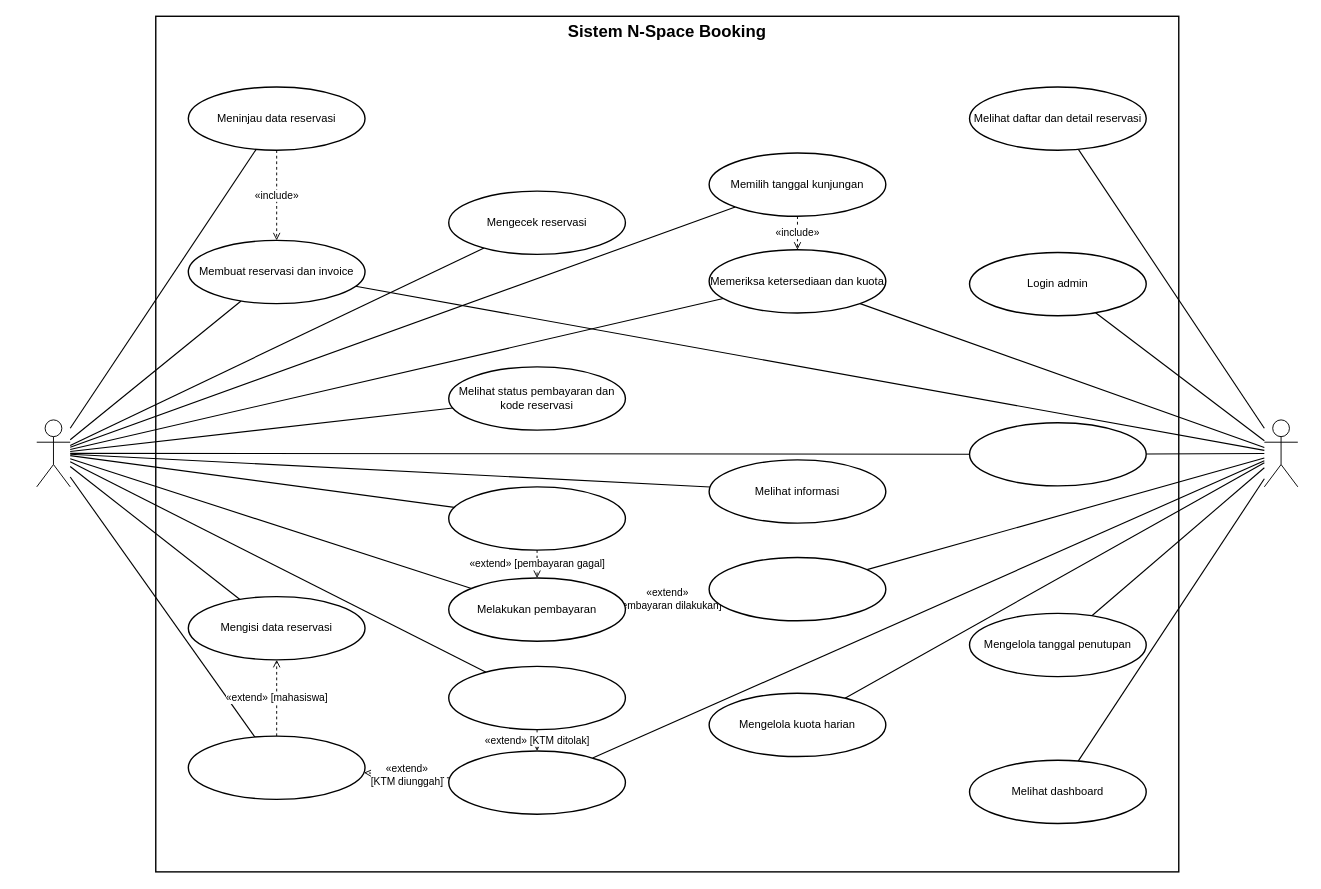
Some shapes in this 1321 by 889 pixel diagram are drawn without their labels. The centre of each missing label's shape, as x and y in pixels:
Admin: the point at 1280,453
Memantau status pembayaran: the point at 797,588
Memverifikasi KTM: the point at 537,782
Mengirim konfirmasi via WhatsApp: the point at 1057,454
Mengulang pembayaran: the point at 537,518
Mengunggah KTM (mahasiswa): the point at 276,767
Mengunggah ulang KTM: the point at 537,697
Pelanggan: the point at 53,453
